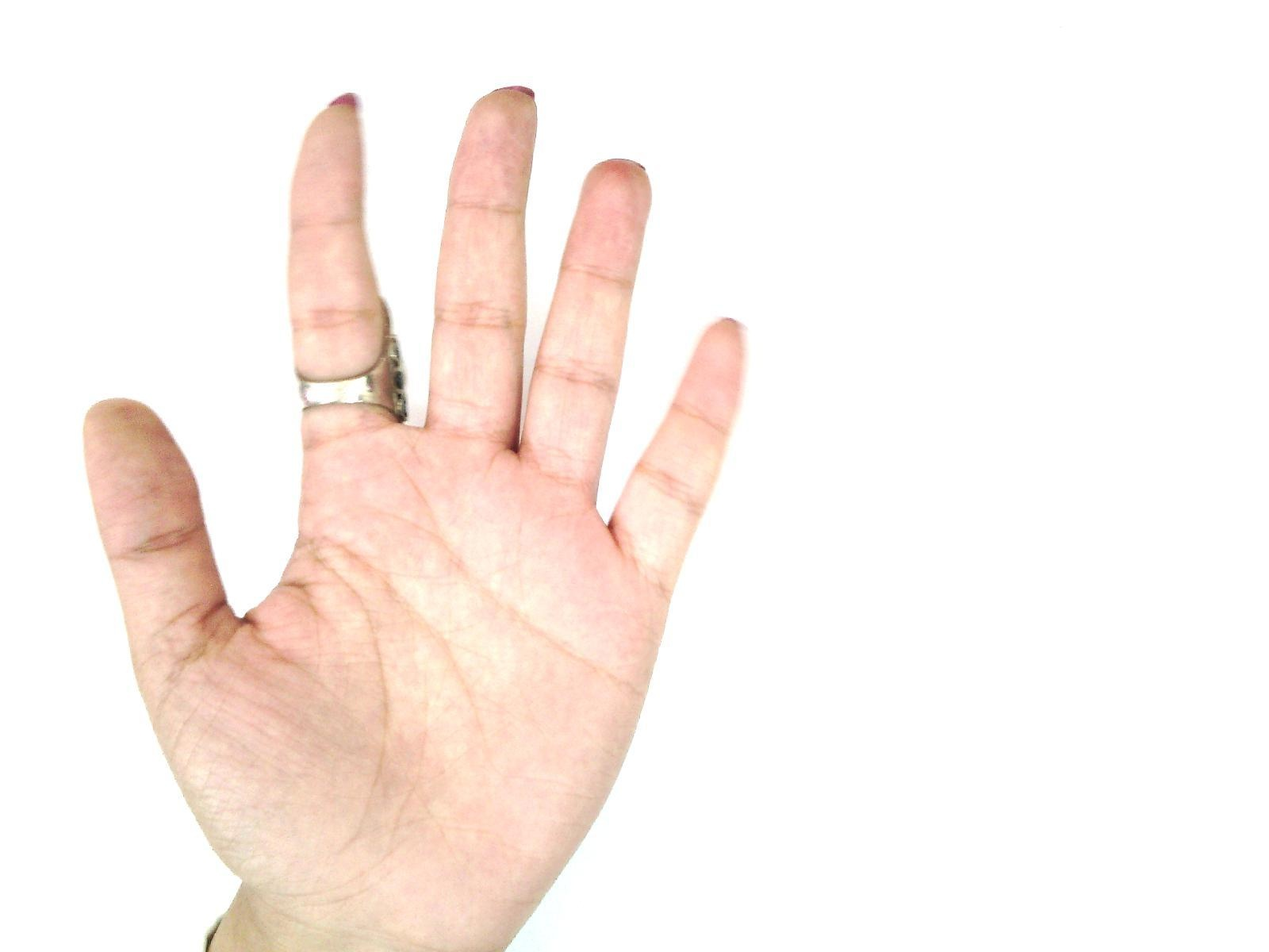open_palm: (80, 84, 753, 950)
